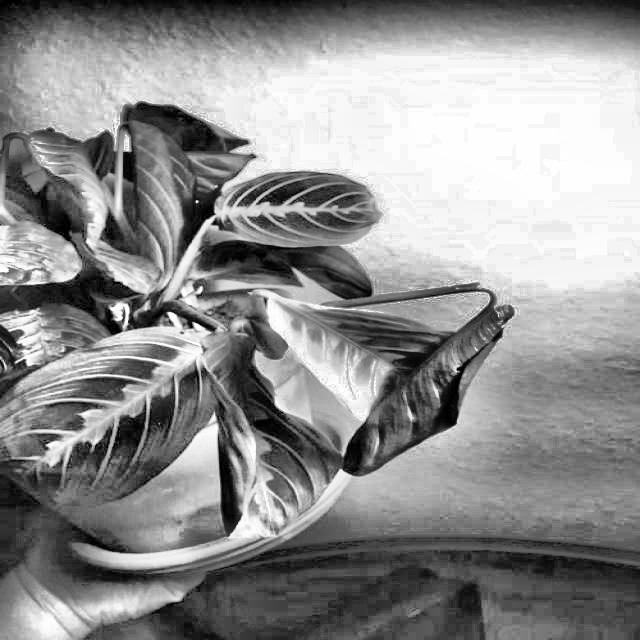plants: (0, 113, 507, 530), (324, 262, 506, 471)
